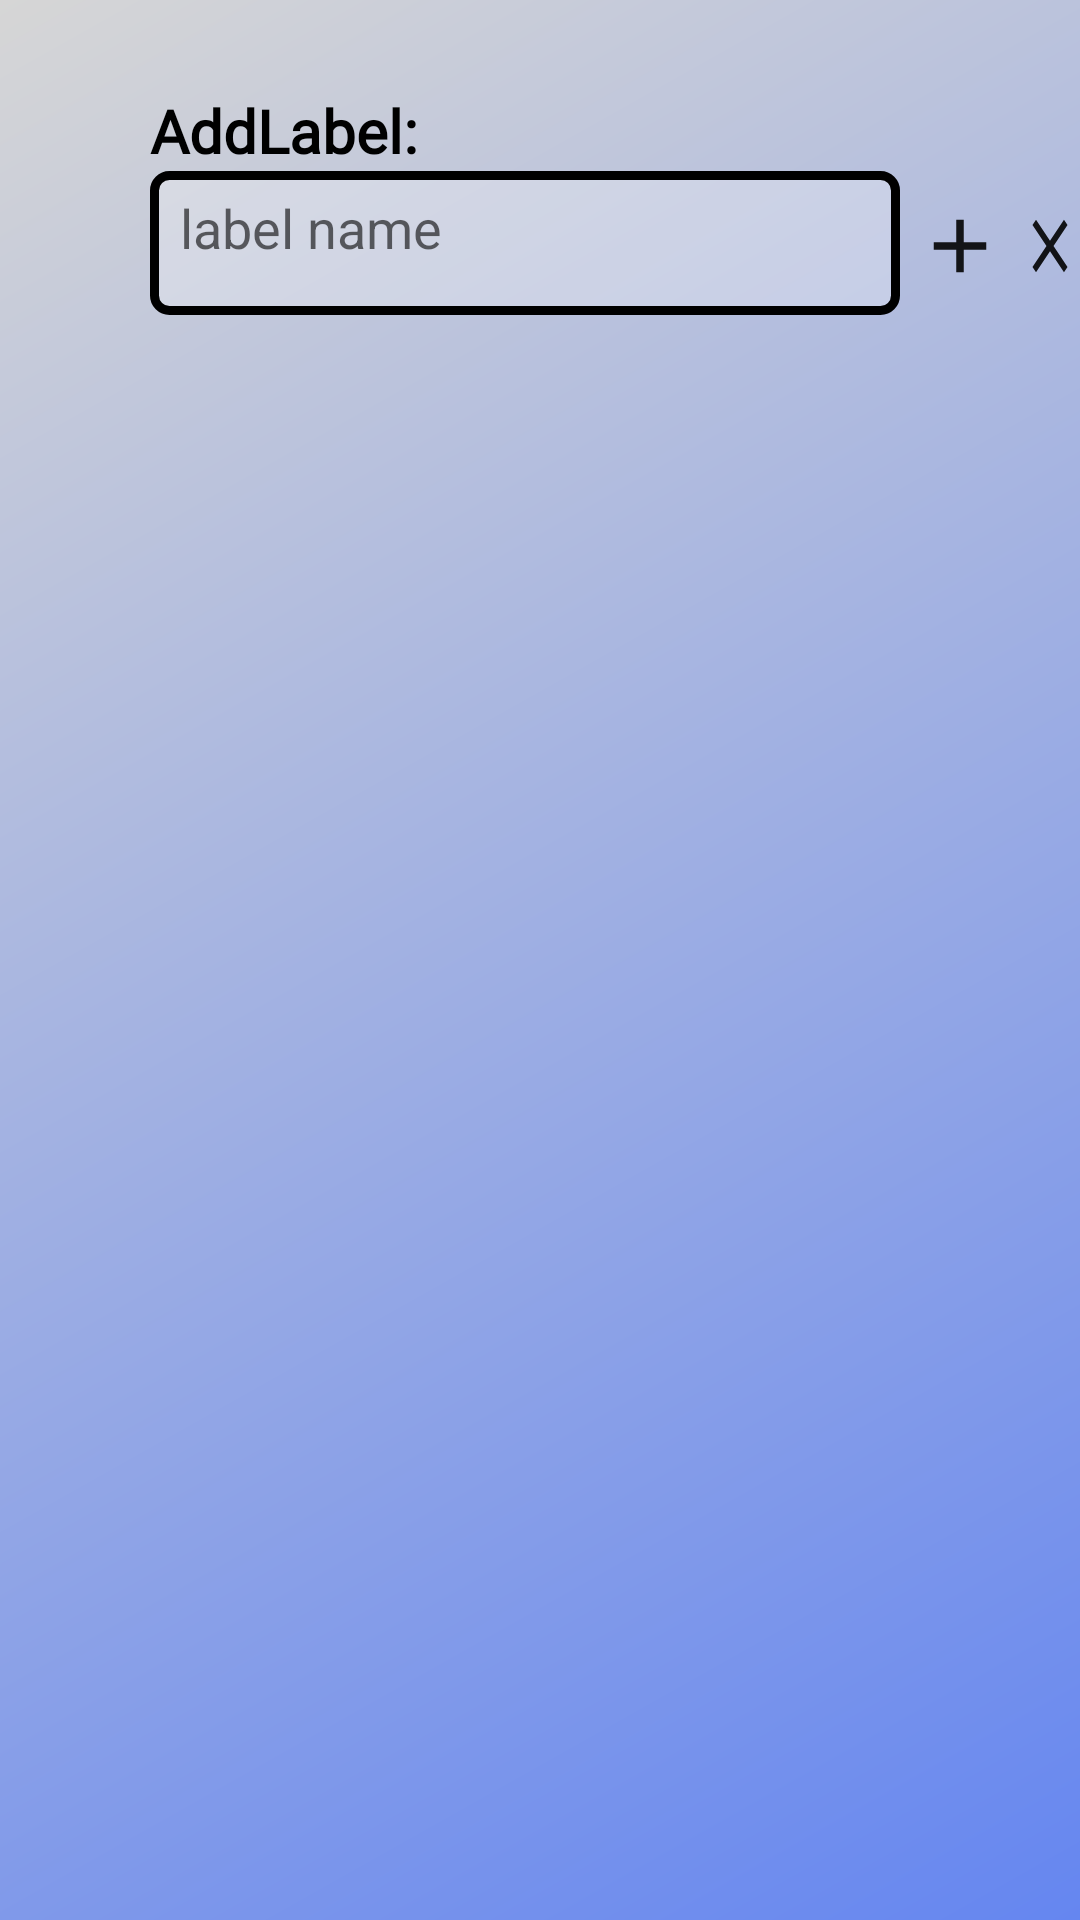

Locate icon controls on the screen. Image size 1080 x 1920, boxes as detection(x1, y1, x2, y2).
add: detection(933, 219, 987, 273)
close: detection(1032, 220, 1068, 272)
